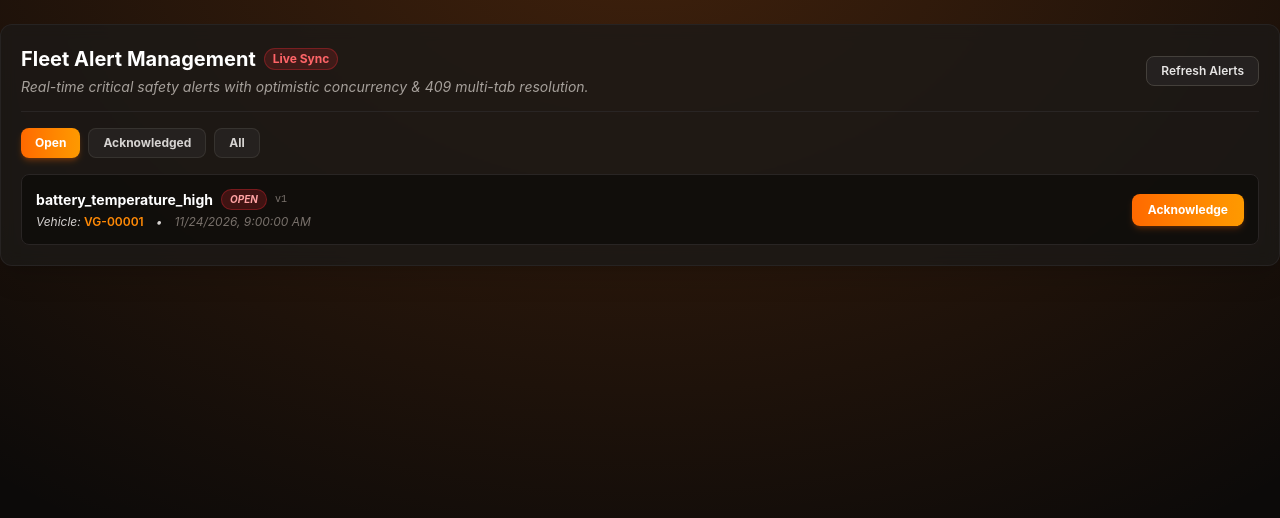
Test: AlertsPanel - optimistic update, rollback, and 409 handling › rolls back optimistic state on API network error
Expected: the heading "battery_temperature_high" is shown, [36,190,213,210]
Click the button "Acknowledge": [1188, 210] box [1132,194,1244,226]
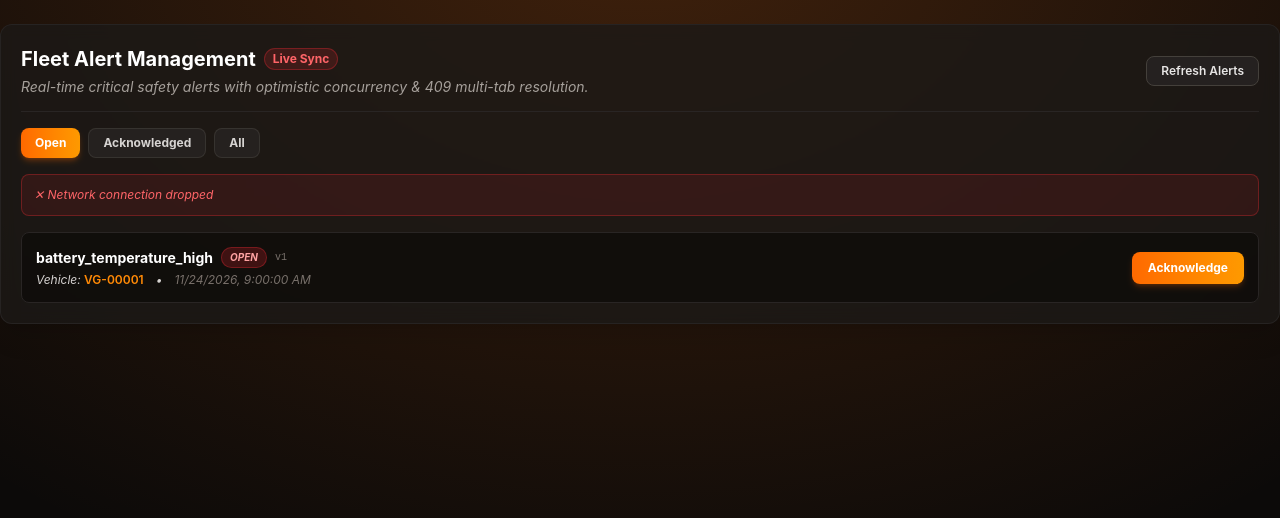
Expected: the button "Acknowledge" is shown, [1132,252,1244,284]
Now the text "✕ Network connection dropped" is shown, box [21,174,1259,216]
